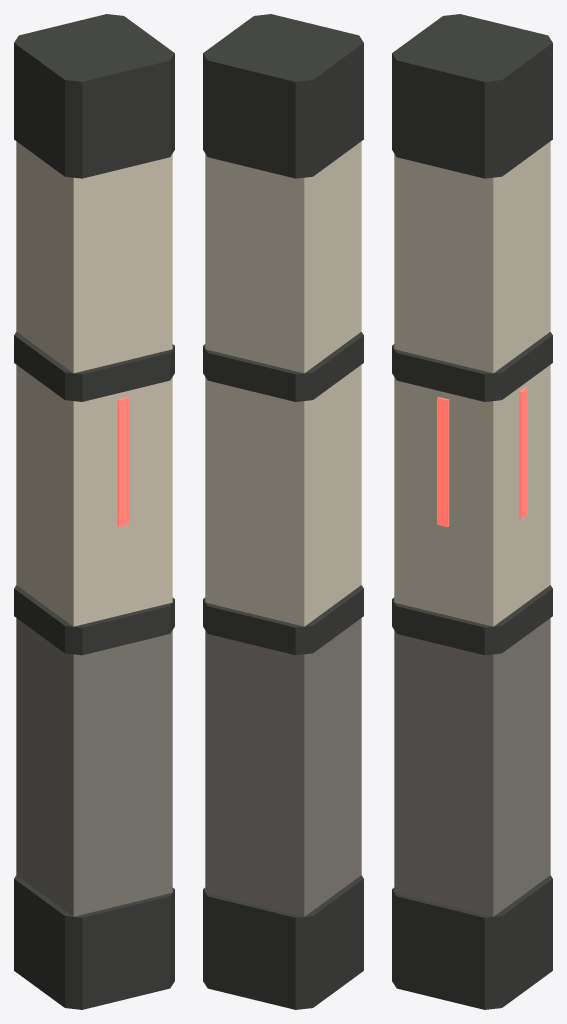
File: b2_corner.glb
3 views of the same model, side by side, from view 1: azimuth 30°, elevation 25°; view 2: azimuth 150°, elevation 25°; view 3: azimuth 330°, elevation 25° (orthographic).
Parts seen in each view (by area): view 1: b2_corner; view 2: b2_corner; view 3: b2_corner.
Boxes of the visible parts, <box> form: b2_corner: <box>14,14,174,1009</box>; b2_corner: <box>203,14,363,1009</box>; b2_corner: <box>392,14,552,1009</box>.
Bounding box in the file's own units: 0.5 × 4.03 × 0.5.
